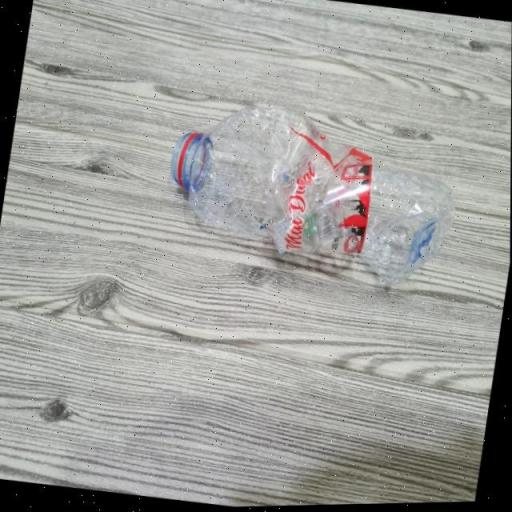plastic: (156, 90, 467, 303)
